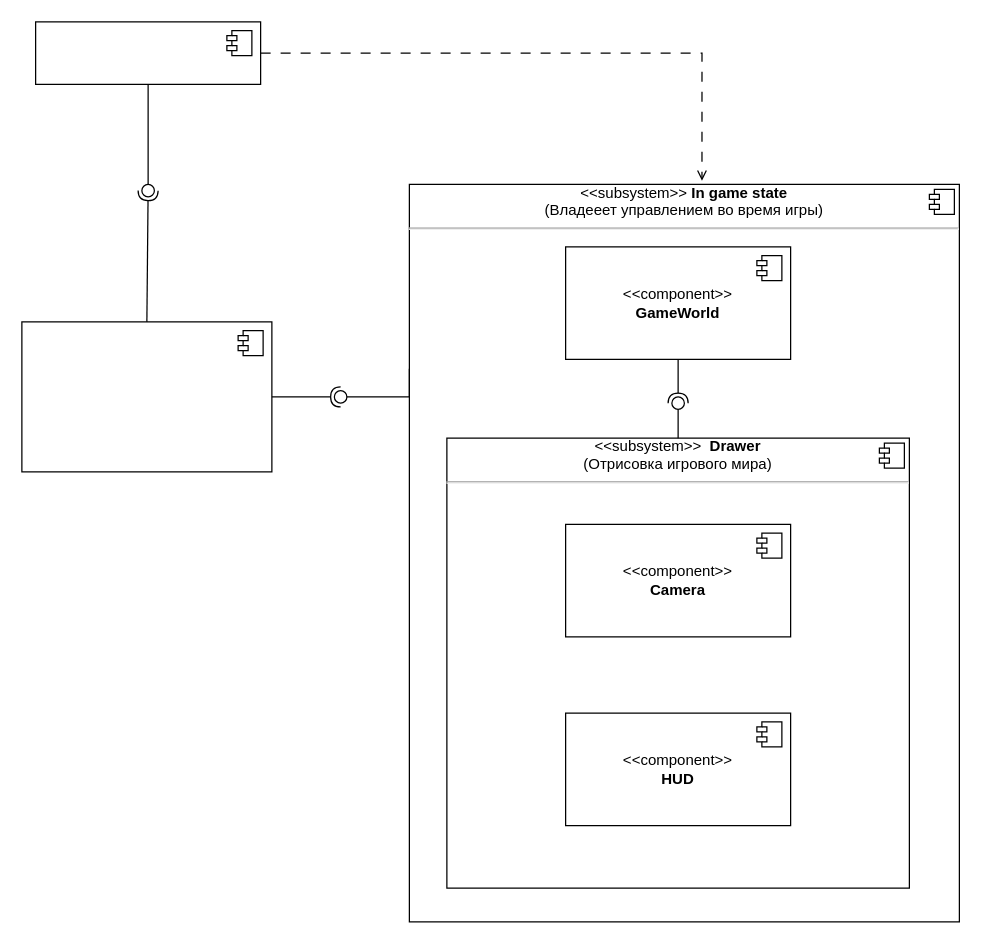
This 981x944 diagram has some shape labels left out. Here are the shapes that lost their labels. From the top down, the box of each, then its label:
(34, 21, 261, 84): <<component>> MainMenu
(21, 321, 272, 472): <<component>> UserListener
